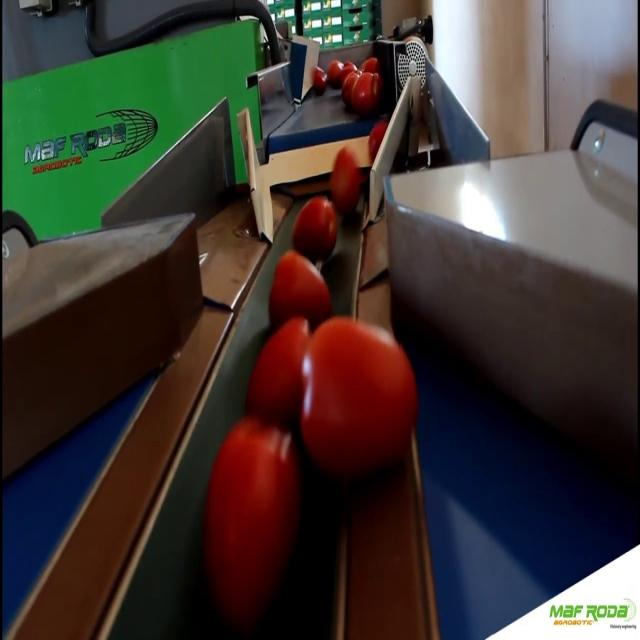Tomato: (298, 323, 420, 471), (207, 421, 296, 619), (240, 318, 308, 422), (268, 248, 333, 330), (288, 197, 336, 261), (328, 145, 362, 219), (354, 70, 379, 108), (366, 122, 387, 160), (338, 70, 358, 104), (328, 57, 345, 88), (310, 66, 328, 94)
